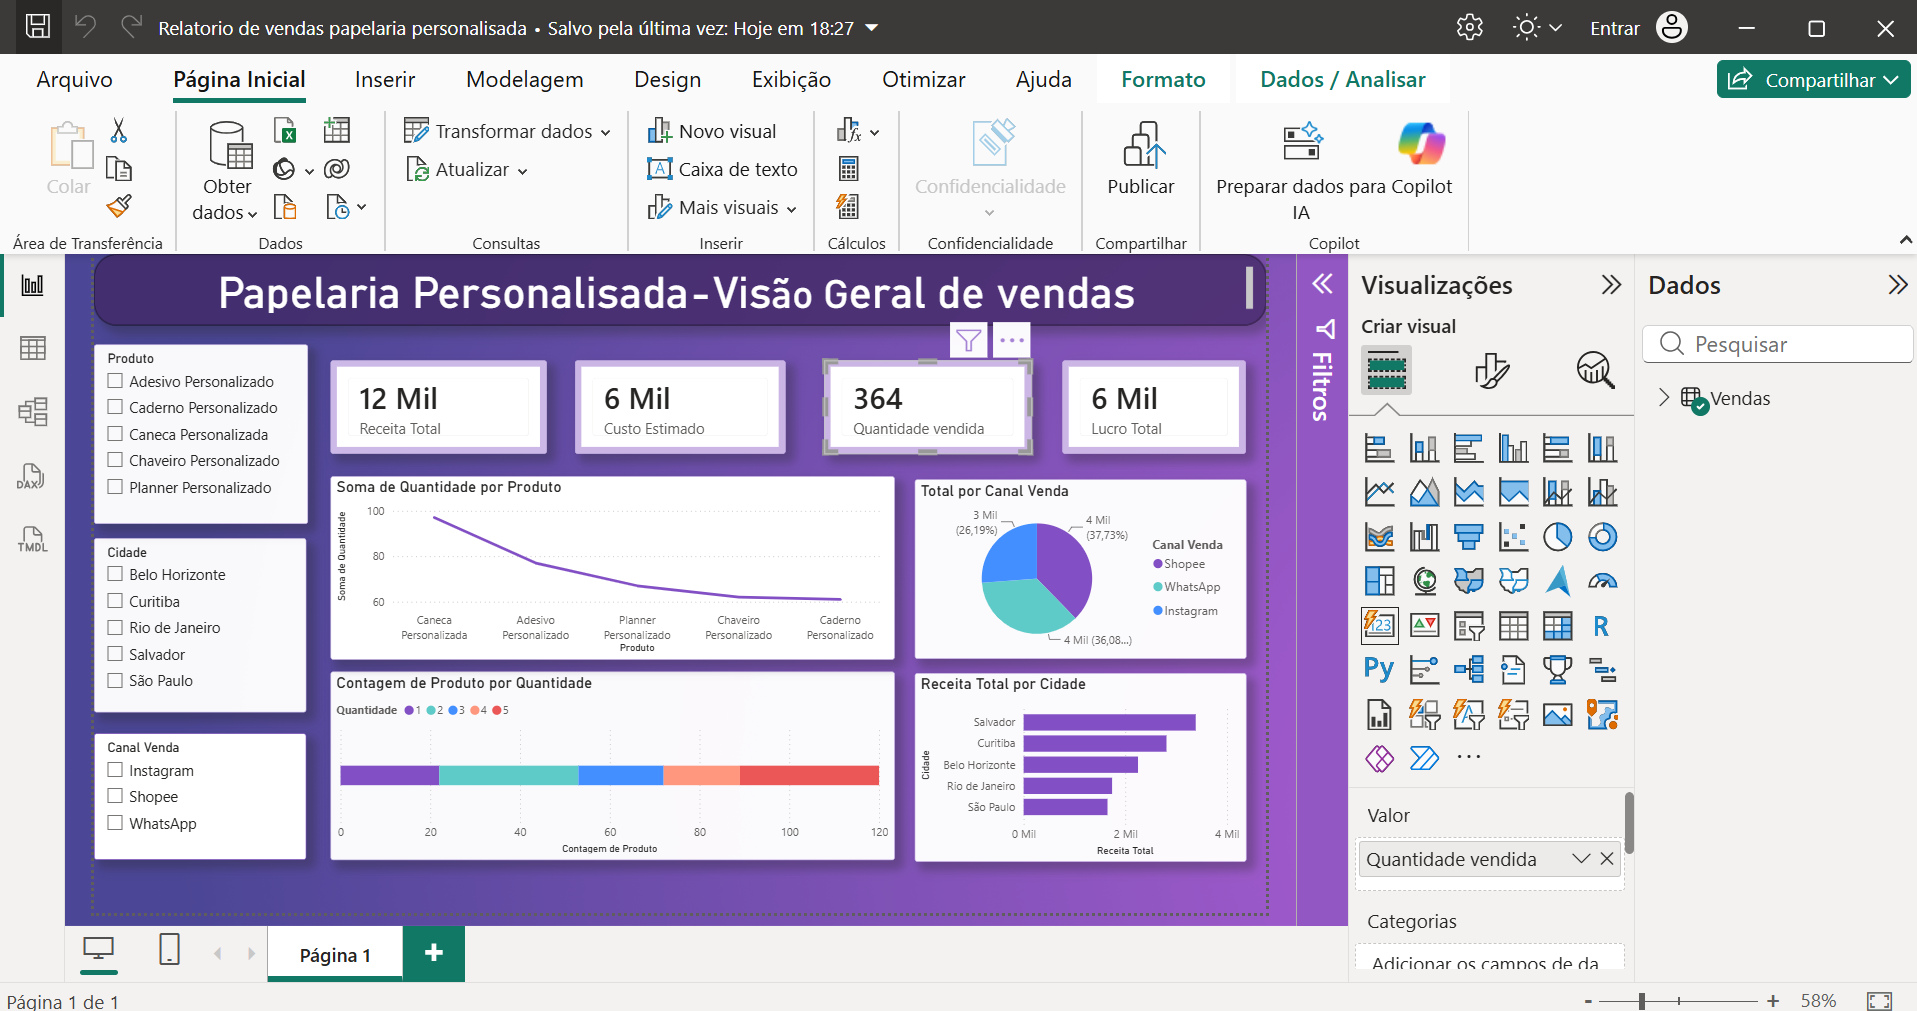

This screenshot's page, from the dashboard's own definition file:
{"tool":"powerbi","page":{"name":"Página 1","canvas":[1280,720],"ordinal":0},"visuals":[{"type":"cardVisual","fields":{"Data":["Sum(Vendas.Custo_Estimado_R$)"]},"box":[526,116,230,102],"z":0},{"type":"cardVisual","fields":{"Data":["Sum(Vendas.Lucro_R$)"]},"box":[1058,116,200,102],"z":1000},{"type":"barChart","fields":{"Y":["CountNonNull(Vendas.Produto)"],"Series":["Vendas.Quantidade"]},"box":[258,456,616,206],"z":2000},{"type":"pieChart","fields":{"Category":["Vendas.Canal_Venda"],"Y":["Sum(Vendas.Receita_Total_R$)"]},"box":[896,246,362,196],"z":3000},{"type":"clusteredBarChart","fields":{"Category":["Vendas.Cidade"],"Y":["Sum(Vendas.Receita_Total_R$)"]},"box":[896,458,362,206],"z":4000},{"type":"textbox","box":[0,0,1280,78],"z":5000},{"type":"cardVisual","fields":{"Data":["Sum(Vendas.Receita_Total_R$)"]},"box":[258,116,236,102],"z":6000},{"type":"slicer","fields":{"Values":["Vendas.Cidade"]},"box":[0,310,232,190],"z":9000},{"type":"slicer","fields":{"Values":["Vendas.Produto"]},"box":[0,98,234,196],"z":10000},{"type":"slicer","fields":{"Values":["Vendas.Canal_Venda"]},"box":[0,524,232,138],"z":11000},{"type":"cardVisual","fields":{"Data":["Sum(Vendas.Quantidade)"]},"box":[798,116,226,102],"z":12000},{"type":"lineChart","fields":{"Category":["Vendas.Produto"],"Y":["Sum(Vendas.Quantidade)"]},"box":[258,242,616,200],"z":12003}]}

Visuals, with their boxes on the page's 1280x720 design canvas (x1, y1, x2, y2). These are canvas units, not pixel positions in the 1917x1011 screenshot, which may show the page scaled, cropped or inside an application window:
cardVisual - Sum(Vendas.Custo_Estimado_R$): rect(526, 116, 756, 218)
cardVisual - Sum(Vendas.Lucro_R$): rect(1058, 116, 1258, 218)
barChart - CountNonNull(Vendas.Produto) x Vendas.Quantidade: rect(258, 456, 874, 662)
pieChart - Vendas.Canal_Venda x Sum(Vendas.Receita_Total_R$): rect(896, 246, 1258, 442)
clusteredBarChart - Vendas.Cidade x Sum(Vendas.Receita_Total_R$): rect(896, 458, 1258, 664)
textbox: rect(0, 0, 1280, 78)
cardVisual - Sum(Vendas.Receita_Total_R$): rect(258, 116, 494, 218)
slicer - Vendas.Cidade: rect(0, 310, 232, 500)
slicer - Vendas.Produto: rect(0, 98, 234, 294)
slicer - Vendas.Canal_Venda: rect(0, 524, 232, 662)
cardVisual - Sum(Vendas.Quantidade): rect(798, 116, 1024, 218)
lineChart - Vendas.Produto x Sum(Vendas.Quantidade): rect(258, 242, 874, 442)
